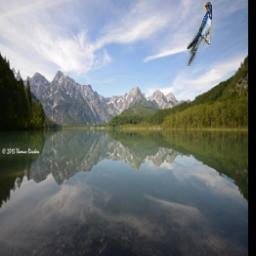Swallow: (187, 2, 212, 67)
